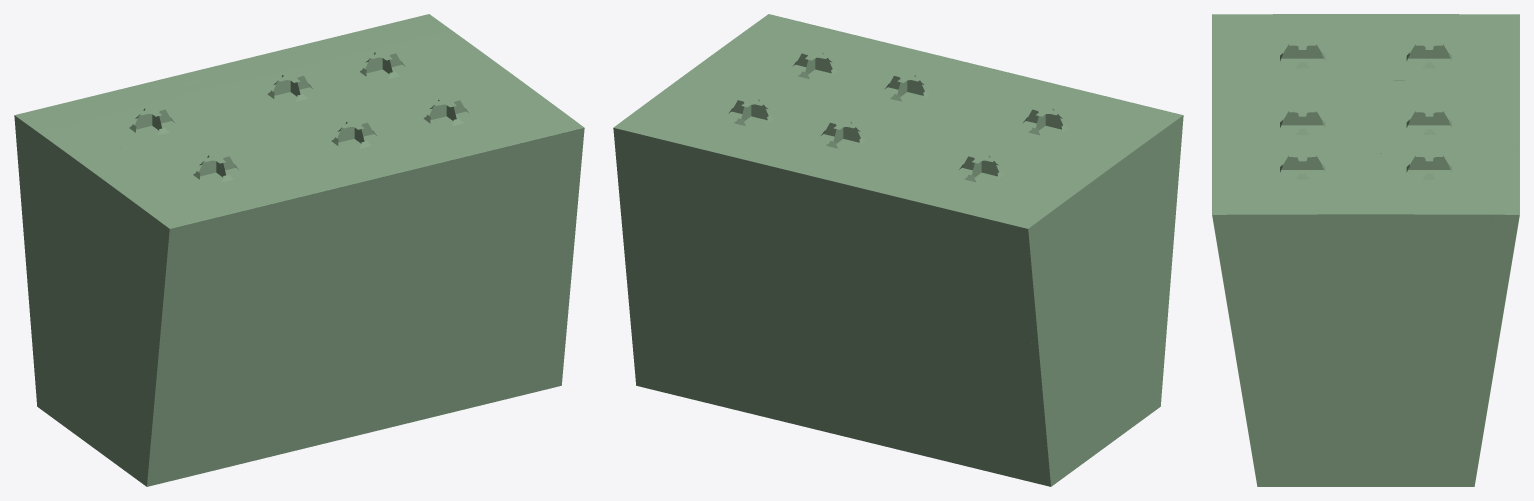
Rendered from NO_5_CENTRAL_CARGO_OIL_TK.glb.
3 renders of one model, left to right at view 1: azimuth 30°, elevation 25°; view 2: azimuth 150°, elevation 25°; view 3: azimuth 270°, elevation 25°, orthographic.
Visible parts, largest first — view 1: PL_LBHDxNo5CenterTankS_017002-19.5_NVA36_1993, PL_LBHDxNo5CenterTankS_009003-19.5_NVA36_1993, PL_LBHDxNo5CenterTankS_018002-17.5_NVA32_1993, PL_LBHDxNo5CenterTankS_013003-15_NVA32_1993, PL_LBHDxNo5CenterTankS_038002-17.5_NVA36_1993, PL_LBHDxNo5CenterTankS_016002-17.5_NVA36_1993, PL_LBHDxNo5CenterTankS_010003-17.5_NVA32_1993, PL_LBHDxNo5CenterTankS_017004-19.5_NVA36_1993, PL_LBHDxNo5CenterTankS_019003-17_NVA32_1993, PL_LBHDxNo5CenterTankS_021003-15_NVA32_1993, PL_LBHDxNo5CenterTankS_016004-17.5_NVA36_1993, PL_LBHDxNo5CenterTankS_017001-19.5_NVA36_1993 (+122 smaller); view 2: PL_LBHDxNo5CenterTankP_017002-19.5_NVA36_1993, PL_LBHDxNo5CenterTankP_009003-19.5_NVA36_1993, PL_LBHDxNo5CenterTankP_018002-17.5_NVA32_1993, PL_LBHDxNo5CenterTankP_013003-15_NVA32_1993, PL_LBHDxNo5CenterTankP_038002-17.5_NVA36_1993, PL_LBHDxNo5CenterTankP_016002-17.5_NVA36_1993, PL_LBHDxNo5CenterTankP_010003-17.5_NVA32_1993, PL_LBHDxNo5CenterTankP_017004-19.5_NVA36_1993, PL_LBHDxNo5CenterTankP_019003-17_NVA32_1993, PL_LBHDxNo5CenterTankP_021003-15_NVA32_1993, PL_LBHDxNo5CenterTankP_016004-17.5_NVA36_1993, PL_LBHDxNo5CenterTankP_017001-19.5_NVA36_1993 (+121 smaller); view 3: PL_TransBHDxBHD69P_001001-19.5_NVA32_1993, PL_TransBHDxBHD69P_006001-14.5_NVA32_1993, PL_TransBHDxBHD69P_009001-13_NVA_1993, PL_TransBHDxBHD69P_004001-17_NVA32_1993, PL_TransBHDxBHD69S_009002-13_NVA_1993, PL_TransBHDxBHD69S_018002-19.5_NVA32_1993, PL_TransBHDxBHD69P_009002-13_NVA_1993, PL_TransBHDxBHD69S_009001-13_NVA_1993, PL_TransBHDxBHD69S_002002-18.5_NVA32_1993, PL_TransBHDxBHD69P_002001-18.5_NVA32_1993, PL_TransBHDxBHD69S_015002-14.5_NVA32_1993, PL_TransBHDxBHD69S_017002-17_NVA32_1993 (+124 smaller).
Boxes of the visible parts, x1,y1,x2,y2 form: PL_LBHDxNo5CenterTankS_017002-19.5_NVA36_1993: [211, 426, 266, 470]; PL_LBHDxNo5CenterTankS_009003-19.5_NVA36_1993: [448, 368, 501, 413]; PL_LBHDxNo5CenterTankS_018002-17.5_NVA32_1993: [214, 395, 269, 438]; PL_LBHDxNo5CenterTankS_013003-15_NVA32_1993: [460, 239, 512, 282]; PL_LBHDxNo5CenterTankS_038002-17.5_NVA36_1993: [231, 200, 286, 242]; PL_LBHDxNo5CenterTankS_016002-17.5_NVA36_1993: [373, 166, 427, 208]; PL_LBHDxNo5CenterTankS_010003-17.5_NVA32_1993: [451, 338, 504, 380]; PL_LBHDxNo5CenterTankS_017004-19.5_NVA36_1993: [305, 404, 355, 447]; PL_LBHDxNo5CenterTankS_019003-17_NVA32_1993: [217, 360, 272, 401]; PL_LBHDxNo5CenterTankS_021003-15_NVA32_1993: [317, 274, 366, 317]; PL_LBHDxNo5CenterTankS_016004-17.5_NVA36_1993: [469, 143, 521, 184]; PL_LBHDxNo5CenterTankS_017001-19.5_NVA36_1993: [165, 439, 214, 482]; PL_LBHDxNo5CenterTankP_017002-19.5_NVA36_1993: [931, 426, 986, 470]; PL_LBHDxNo5CenterTankP_009003-19.5_NVA36_1993: [696, 368, 749, 413]; PL_LBHDxNo5CenterTankP_018002-17.5_NVA32_1993: [928, 395, 983, 438]; PL_LBHDxNo5CenterTankP_013003-15_NVA32_1993: [685, 239, 737, 282]; PL_LBHDxNo5CenterTankP_038002-17.5_NVA36_1993: [911, 200, 966, 242]; PL_LBHDxNo5CenterTankP_016002-17.5_NVA36_1993: [770, 166, 824, 208]; PL_LBHDxNo5CenterTankP_010003-17.5_NVA32_1993: [693, 338, 746, 380]; PL_LBHDxNo5CenterTankP_017004-19.5_NVA36_1993: [842, 404, 892, 447]; PL_LBHDxNo5CenterTankP_019003-17_NVA32_1993: [925, 360, 980, 401]; PL_LBHDxNo5CenterTankP_021003-15_NVA32_1993: [831, 274, 880, 317]; PL_LBHDxNo5CenterTankP_016004-17.5_NVA36_1993: [676, 143, 728, 184]; PL_LBHDxNo5CenterTankP_017001-19.5_NVA36_1993: [983, 439, 1032, 482]; PL_TransBHDxBHD69P_001001-19.5_NVA32_1993: [1366, 452, 1445, 486]; PL_TransBHDxBHD69P_006001-14.5_NVA32_1993: [1366, 317, 1445, 348]; PL_TransBHDxBHD69P_009001-13_NVA_1993: [1366, 214, 1445, 247]; PL_TransBHDxBHD69P_004001-17_NVA32_1993: [1366, 383, 1445, 413]; PL_TransBHDxBHD69S_009002-13_NVA_1993: [1286, 214, 1365, 247]; PL_TransBHDxBHD69S_018002-19.5_NVA32_1993: [1286, 452, 1352, 486]; PL_TransBHDxBHD69P_009002-13_NVA_1993: [1445, 214, 1514, 247]; PL_TransBHDxBHD69S_009001-13_NVA_1993: [1217, 214, 1286, 247]; PL_TransBHDxBHD69S_002002-18.5_NVA32_1993: [1286, 420, 1352, 452]; PL_TransBHDxBHD69P_002001-18.5_NVA32_1993: [1381, 420, 1445, 452]; PL_TransBHDxBHD69S_015002-14.5_NVA32_1993: [1286, 317, 1352, 348]; PL_TransBHDxBHD69S_017002-17_NVA32_1993: [1286, 383, 1352, 413].
Bounding box in the file's own units: 47.16 × 31.5 × 30.6.
